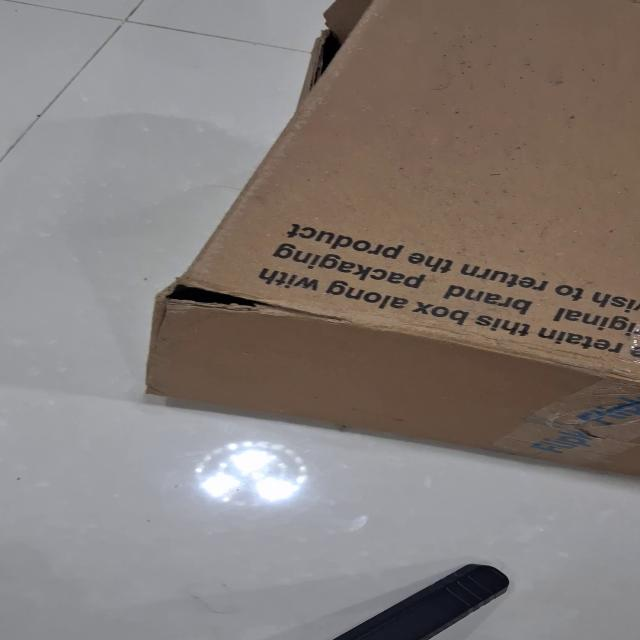paper: (142, 0, 639, 477)
